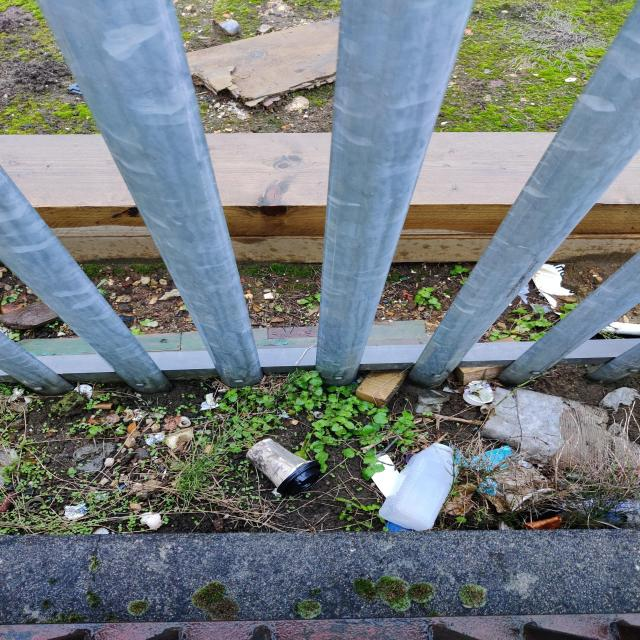litter: (398, 444, 454, 523), (252, 441, 308, 483)
